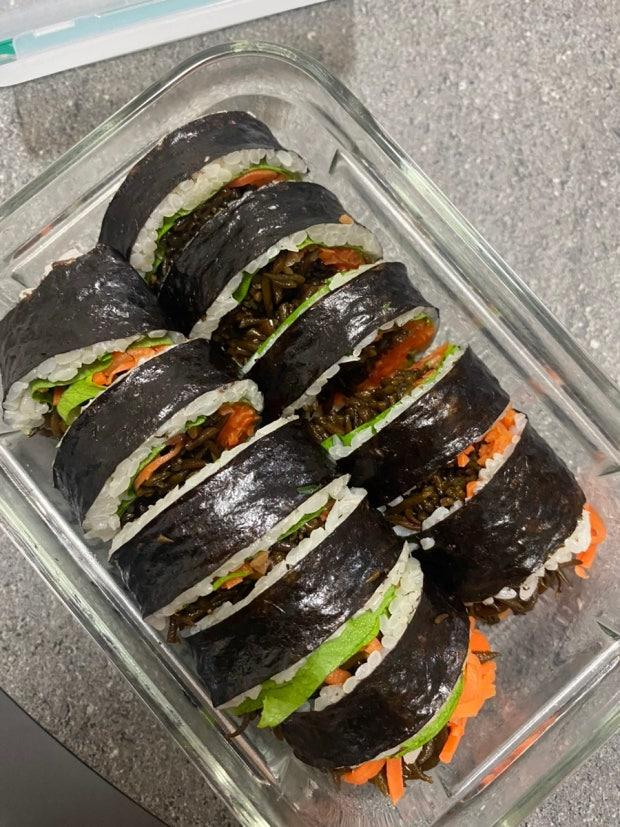Lunch Box: (0, 42, 619, 826)
